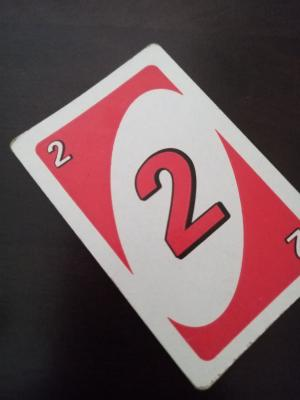num_2: (44, 139, 82, 173), (278, 223, 300, 262)
